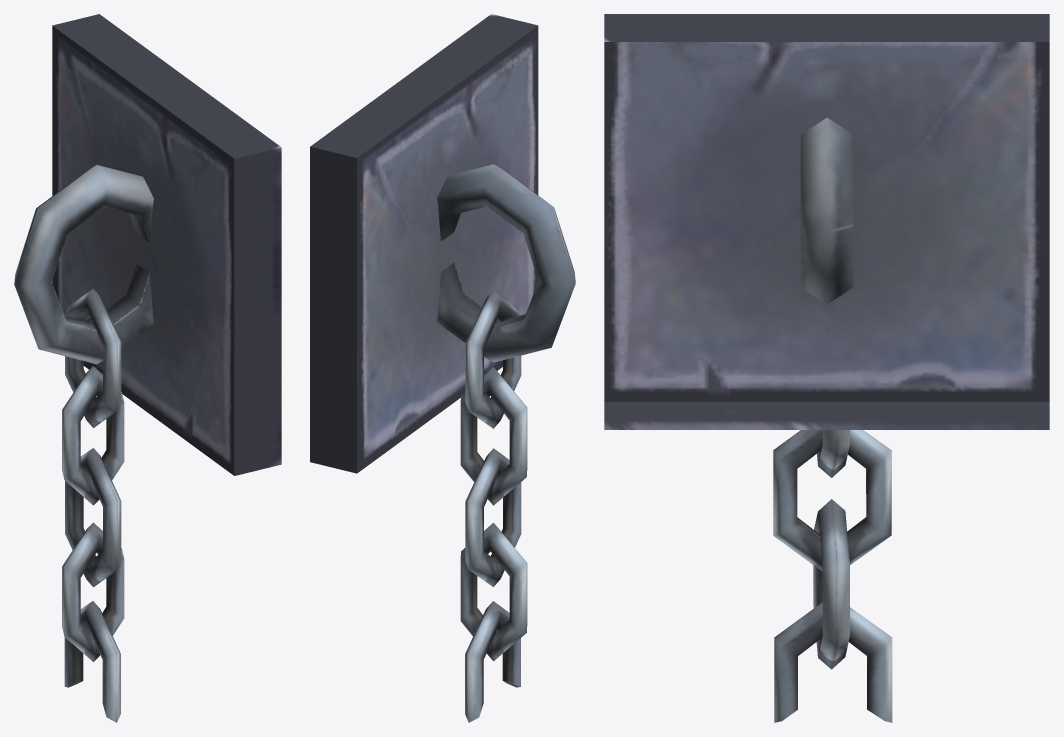
File: deco_shackles1.fbx
3 renders of one model, left to right at view 1: azimuth 30°, elevation 25°; view 2: azimuth 150°, elevation 25°; view 3: azimuth 270°, elevation 25°, orthographic. The views are drawn at different scales.
Parts seen in each view (by area): view 1: Box024; view 2: Box024; view 3: Box024.
Boxes of the visible parts, <box> form: Box024: <box>14,14,281,722</box>; Box024: <box>310,14,575,722</box>; Box024: <box>604,14,1049,722</box>.
Size of the model in its own units: 17.68 by 57.87 by 31.68.
